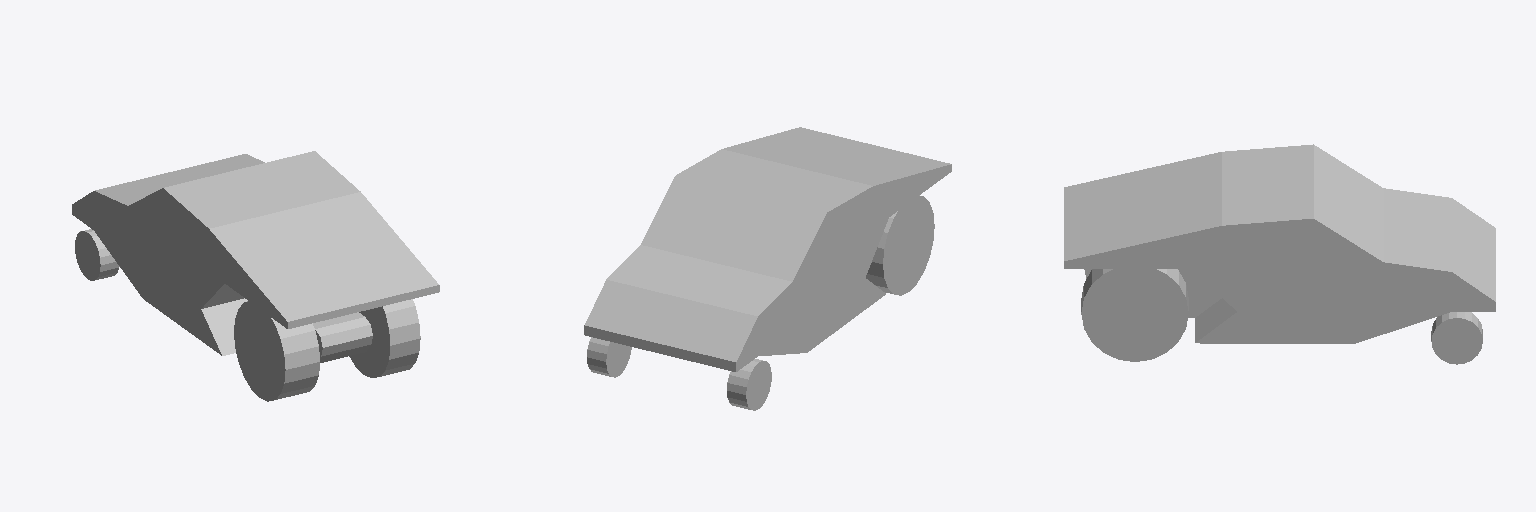
Rendered from racecar2.obj.
3 renders of one model, left to right at view 1: azimuth 30°, elevation 25°; view 2: azimuth 150°, elevation 25°; view 3: azimuth 270°, elevation 25°, orthographic.
Bounding box in the file's own units: 2.29 × 2.04 × 5.37.